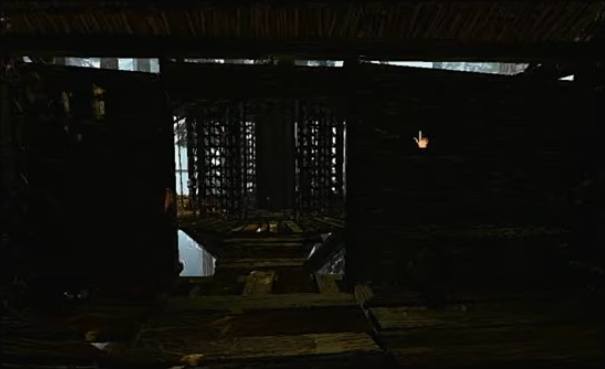Pointer: (411, 127, 433, 150)
